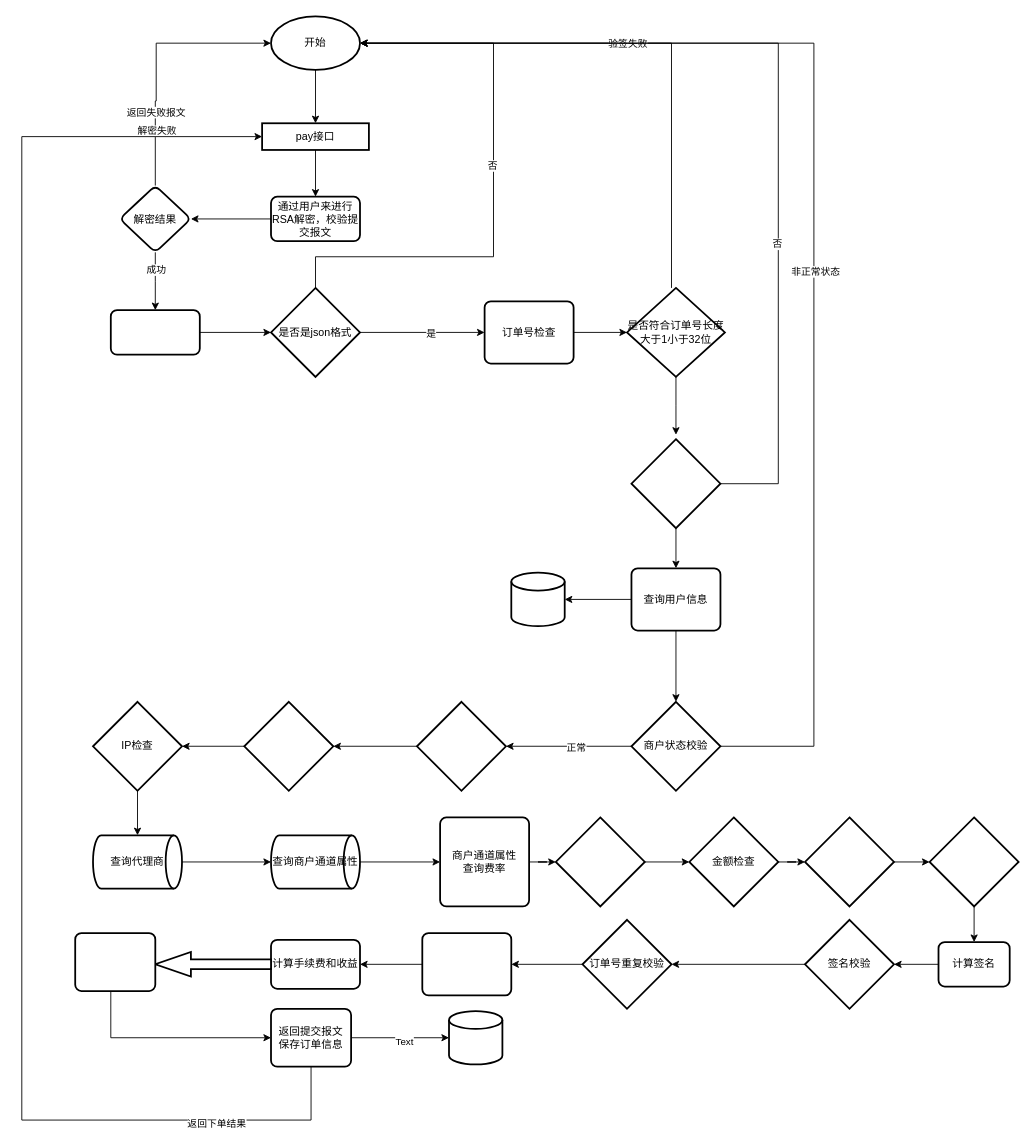
The diagram is 1035 pixels wide and 1144 high, and some of its shapes have lost their labels. Here are the shapes that lost their labels. From the top down, the centre of each, then its label:
At point 154,332: "报文格式检查".
At point 675,483: "商户号检查 是否为空 是否和之前的传的商户号一致".
At point 288,745: "网关检查".
At point 461,745: "回调地址校验".
At point 599,861: "随机数检查".
At point 849,861: "商品名称检查".
At point 973,861: "回显地址检查".
At point 115,961: "上游通道下单".
At point 466,964: "选择支付通道 指定 路由".
